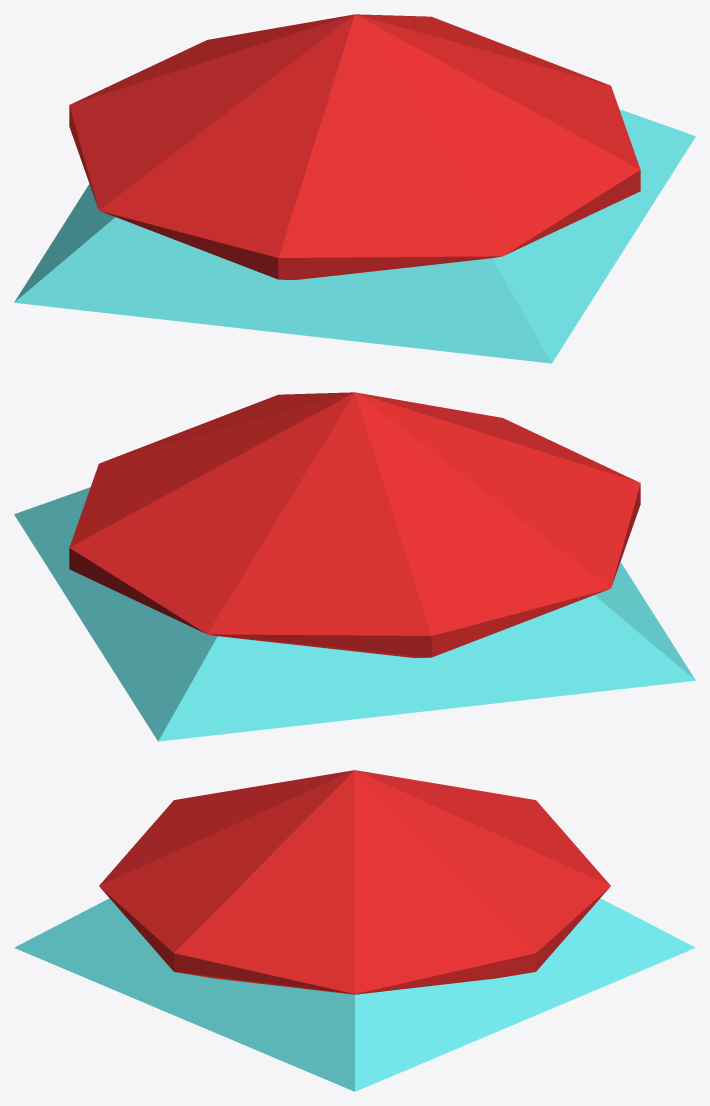
The model's file is targeting.glb.
3 views of the same model, one above another, from view 1: azimuth 30°, elevation 25°; view 2: azimuth 150°, elevation 25°; view 3: azimuth 270°, elevation 25° (orthographic). The views are drawn at different scales.
Parts seen in each view (by area): view 1: AoE, Targetable; view 2: AoE, Targetable; view 3: AoE, Targetable.
Part boxes in pixels (bbox=[...]): AoE: bbox=[69, 14, 640, 280]; Targetable: bbox=[14, 109, 695, 363]; AoE: bbox=[69, 392, 640, 658]; Targetable: bbox=[14, 487, 695, 741]; AoE: bbox=[99, 770, 610, 994]; Targetable: bbox=[14, 898, 695, 1091].
Size of the model in its own units: 1 by 0.375 by 1.
